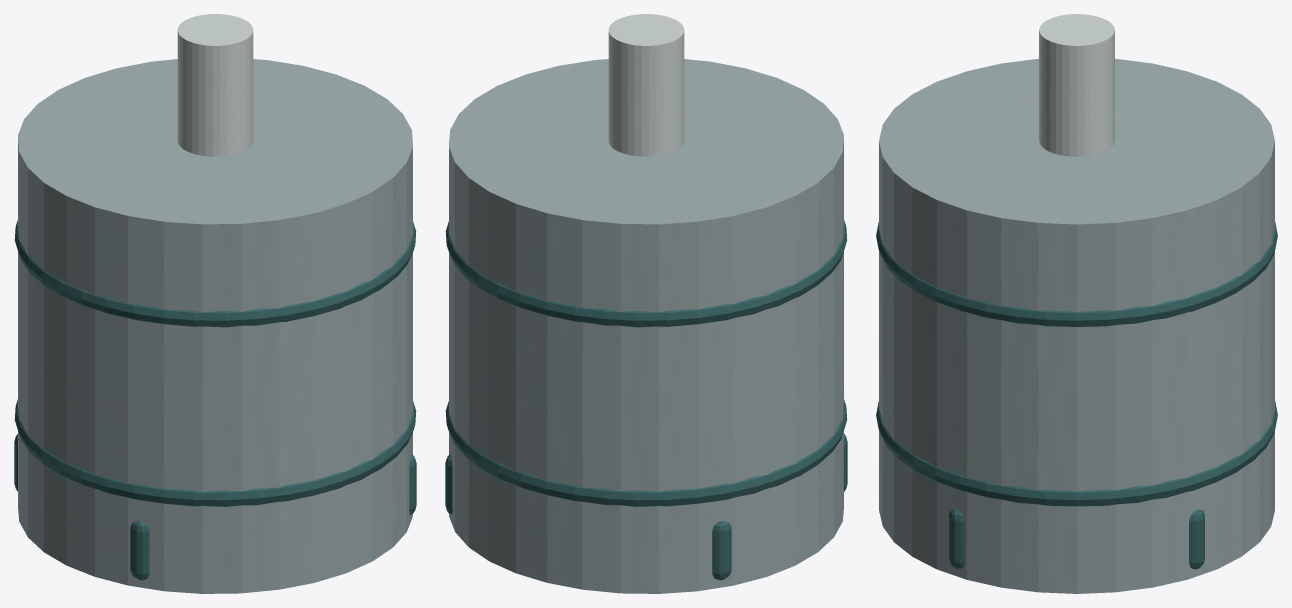
File: generator.glb
The picture shows the model from 3 angles, left to right: view 1: azimuth 30°, elevation 25°; view 2: azimuth 150°, elevation 25°; view 3: azimuth 270°, elevation 25°; orthographic projection.
Visible parts, largest first — view 1: Generator_Casing, Motor_Shaft, Motor_Rib, Motor_Rib.001, Motor_Foot; view 2: Generator_Casing, Motor_Shaft, Motor_Rib, Motor_Rib.001, Motor_Foot; view 3: Generator_Casing, Motor_Shaft, Motor_Rib.001, Motor_Rib, Motor_Foot.
Boxes of the visible parts, x1,y1,x2,y2 form: Generator_Casing: [18, 59, 412, 593]; Motor_Shaft: [177, 14, 253, 156]; Motor_Rib: [14, 399, 416, 506]; Motor_Rib.001: [14, 220, 416, 327]; Motor_Foot: [14, 434, 416, 580]; Generator_Casing: [449, 59, 843, 593]; Motor_Shaft: [608, 14, 684, 156]; Motor_Rib: [445, 399, 847, 506]; Motor_Rib.001: [445, 220, 847, 327]; Motor_Foot: [445, 434, 847, 580]; Generator_Casing: [879, 58, 1274, 593]; Motor_Shaft: [1039, 14, 1114, 156]; Motor_Rib.001: [876, 222, 1277, 326]; Motor_Rib: [876, 401, 1277, 506]; Motor_Foot: [949, 509, 1204, 569].
Bounding box in the file's own units: 0.69 × 0.91 × 0.69.
Materials: 4 (4 with a texture image).
